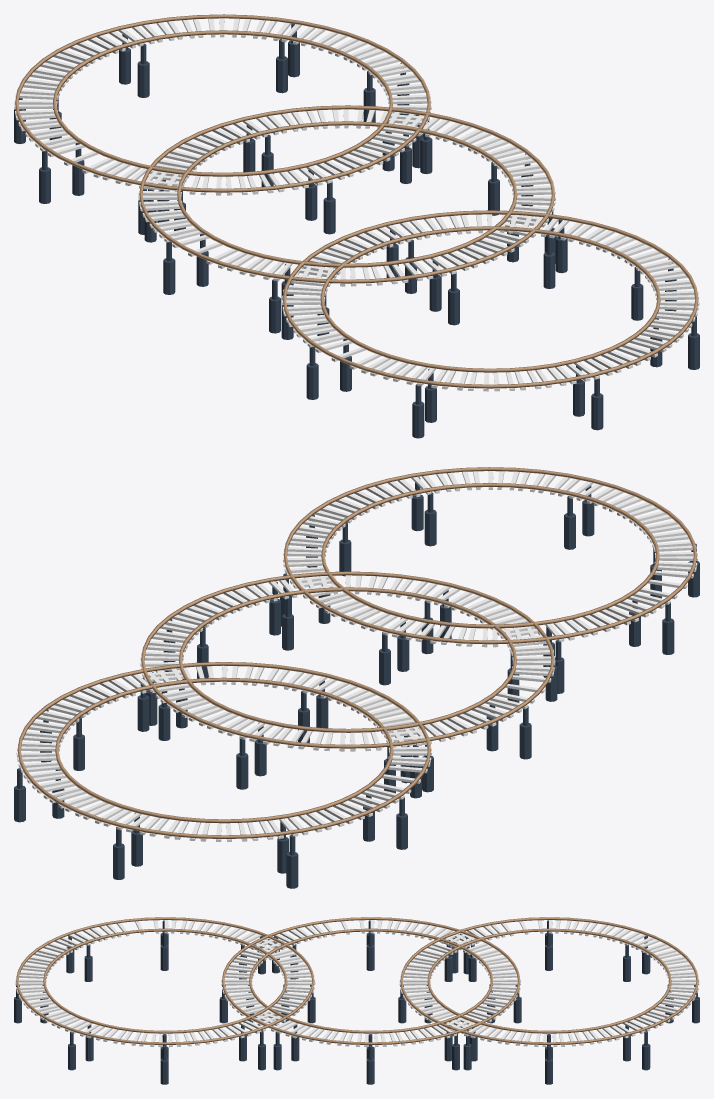
The model's file is RollerCoaster_013.fbx.
3 renders of one model, top to bottom at view 1: azimuth 30°, elevation 25°; view 2: azimuth 150°, elevation 25°; view 3: azimuth 270°, elevation 25°, orthographic. The views are drawn at different scales.
Parts seen in each view (by area): view 1: RailStep.029, RailStep.030, RailStep.031, Path.031, Path.030, Path.032, Columns.023, Columns.024, Columns.025; view 2: RailStep.029, RailStep.030, RailStep.031, Path.030, Path.031, Path.032, Columns.024, Columns.023, Columns.025; view 3: RailStep.029, RailStep.030, RailStep.031, Path.030, Path.031, Path.032, Columns.024, Columns.023, Columns.025.
Boxes of the visible parts, x1,y1,x2,y2 form: RailStep.029: [282, 214, 699, 391]; RailStep.030: [14, 18, 431, 195]; RailStep.031: [138, 109, 555, 286]; Path.031: [15, 14, 430, 192]; Path.030: [283, 210, 698, 388]; Path.032: [139, 105, 554, 283]; Columns.023: [281, 219, 699, 438]; Columns.024: [14, 23, 432, 242]; Columns.025: [138, 114, 556, 333]; RailStep.029: [283, 471, 697, 647]; RailStep.030: [16, 665, 431, 841]; RailStep.031: [140, 575, 555, 751]; Path.030: [284, 467, 696, 644]; Path.031: [17, 662, 430, 838]; Path.032: [141, 571, 554, 748]; Columns.024: [14, 672, 433, 888]; Columns.023: [280, 477, 699, 693]; Columns.025: [137, 581, 557, 798]; RailStep.029: [15, 920, 315, 1047]; RailStep.030: [399, 920, 699, 1047]; RailStep.031: [221, 920, 520, 1047]; Path.030: [16, 917, 314, 1044]; Path.031: [400, 917, 698, 1044]; Path.032: [222, 917, 520, 1044]; Columns.024: [398, 920, 699, 1084]; Columns.023: [14, 920, 315, 1084]; Columns.025: [219, 920, 521, 1084].
Bounding box in the file's own units: 2381 × 344 × 5356.
